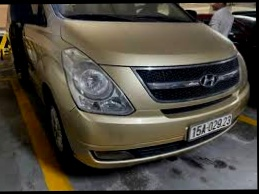Bien-so: (182, 121, 226, 152)
